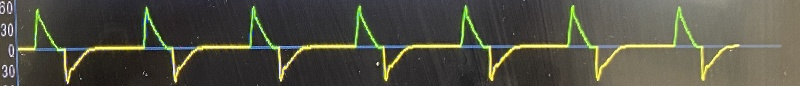normal_flow: (14, 0, 746, 86)
